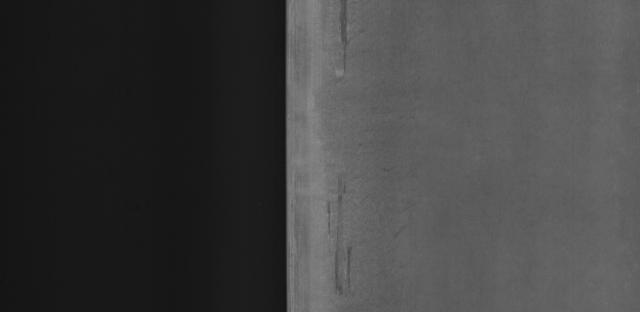silk_spot: (366, 27, 413, 260)
water_spot: (320, 175, 359, 295), (327, 1, 357, 79)
